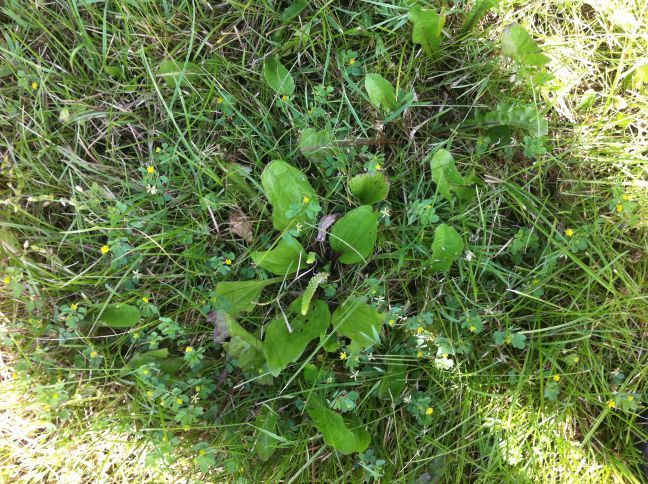weed1: (215, 161, 391, 375)
